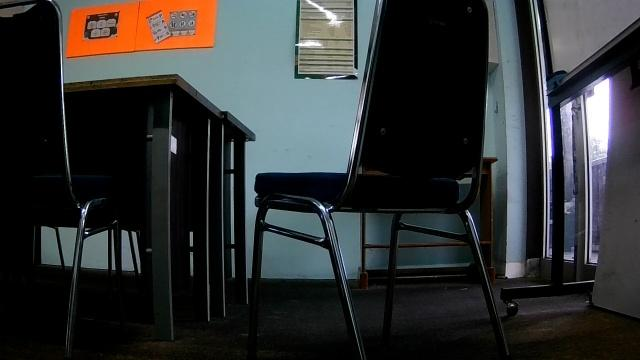Kursi: (248, 0, 508, 355)
